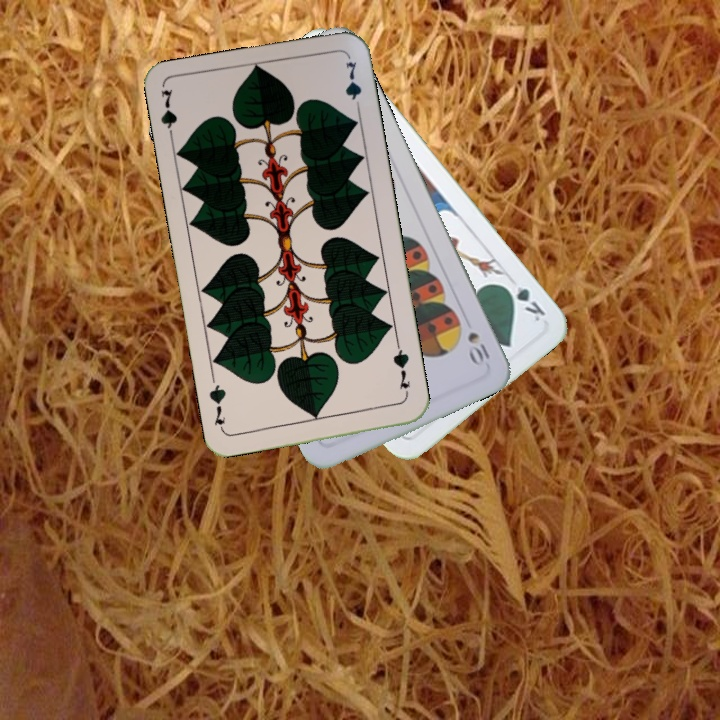G7: (389, 341, 413, 400), (156, 86, 180, 145)
GK: (499, 278, 548, 324)
S10: (463, 327, 493, 369)
